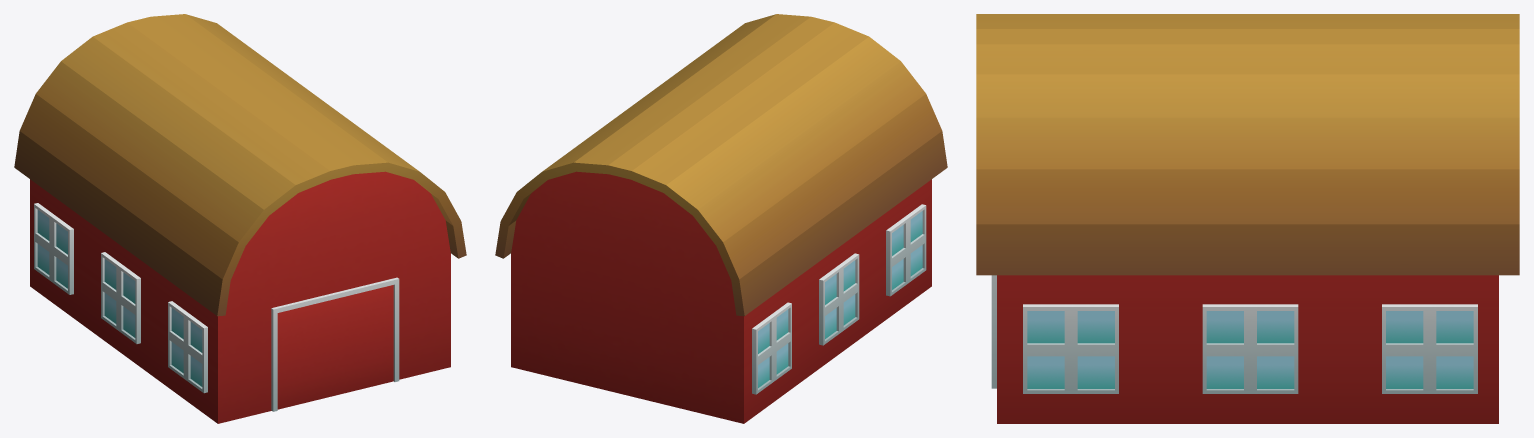
The model's file is barn.obj.
3 views of the same model, side by side, from view 1: azimuth 30°, elevation 25°; view 2: azimuth 150°, elevation 25°; view 3: azimuth 270°, elevation 25° (orthographic). The views are drawn at different scales.
Parts seen in each view (by area): view 1: roof_sm, barn_sm, door_sm, windows_sm; view 2: roof_sm, barn_sm, windows_sm; view 3: roof_sm, barn_sm, windows_sm, door_sm.
Boxes of the visible parts, x1=… form: roof_sm: x1=14, y1=14, x2=466, y2=316; barn_sm: x1=30, y1=171, x2=450, y2=423; door_sm: x1=271, y1=277, x2=399, y2=411; windows_sm: x1=34, y1=203, x2=207, y2=393; roof_sm: x1=495, y1=14, x2=947, y2=316; barn_sm: x1=511, y1=171, x2=931, y2=423; windows_sm: x1=752, y1=204, x2=926, y2=394; roof_sm: x1=976, y1=14, x2=1519, y2=275; barn_sm: x1=997, y1=275, x2=1498, y2=423; windows_sm: x1=1023, y1=304, x2=1477, y2=393; door_sm: x1=991, y1=275, x2=996, y2=388.
Bounding box in the file's own units: 8.03 × 7.17 × 11.32.
